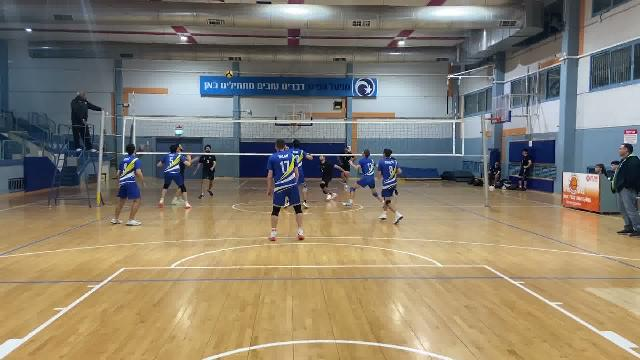ball: (225, 67, 234, 81)
